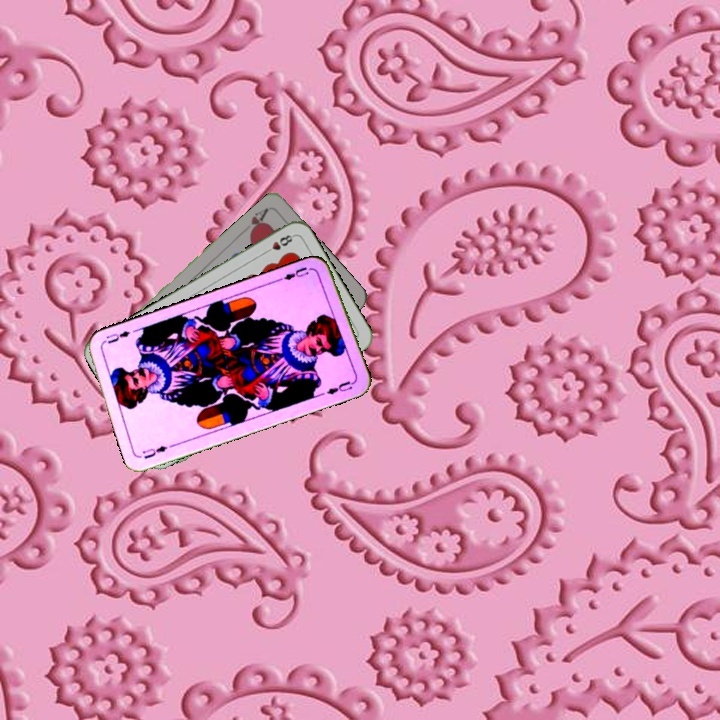EU: (280, 262, 311, 283), (138, 441, 170, 461)
H8: (260, 230, 297, 257)
HA: (245, 203, 271, 239)
